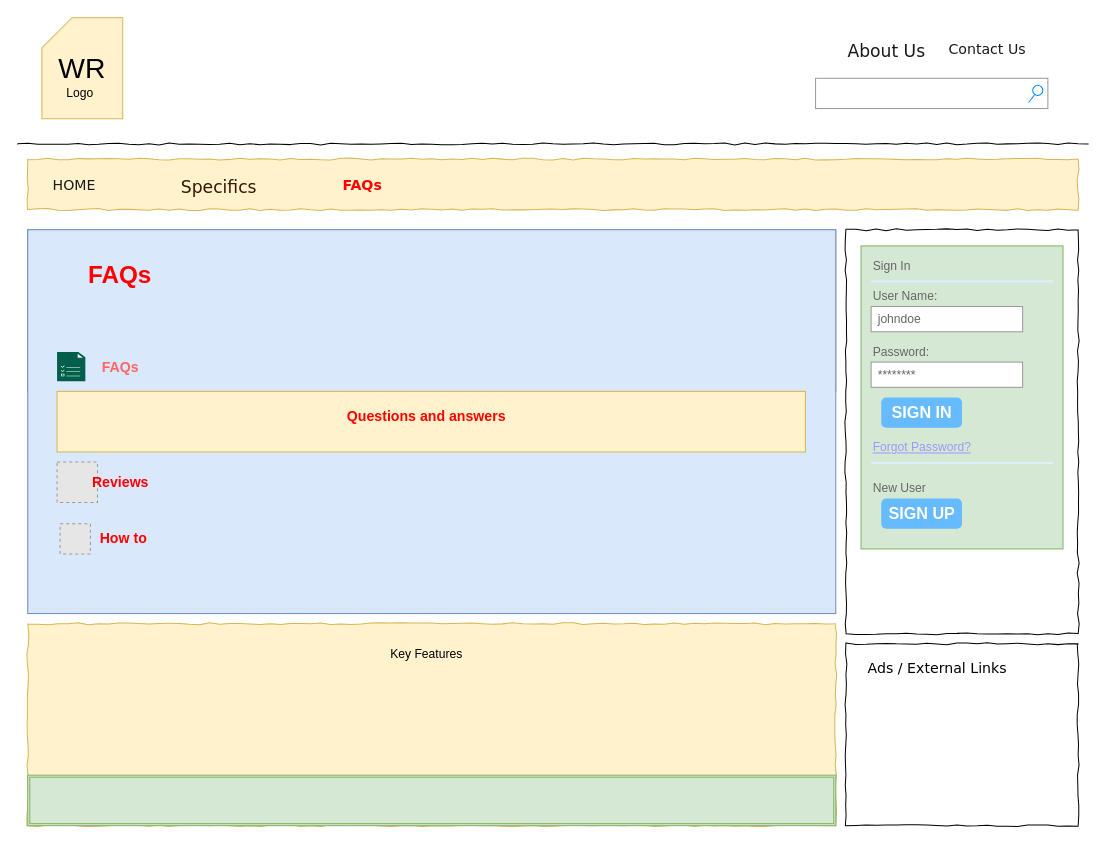
This 1106x843 diagram has some shape labels left out. Grey dashed boxes stand in for pictures. The shapes that lost their labels are listed below. From the top down, each one's centre as x and y in pixels, then its label:
At point (931, 93): "Search".
At point (431, 800): "Footer".
